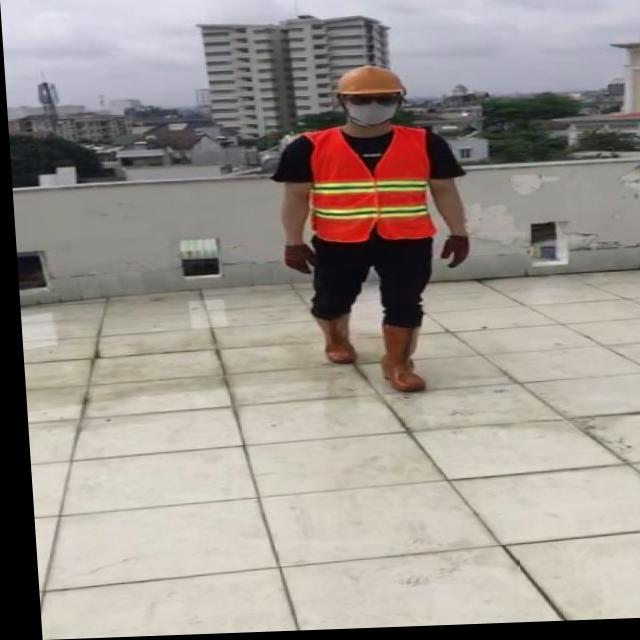Gloves: (279, 244, 312, 277), (435, 238, 467, 272)
Safety-Boot: (372, 324, 421, 395), (308, 311, 352, 367)
Safety-Vest: (298, 125, 433, 248)
